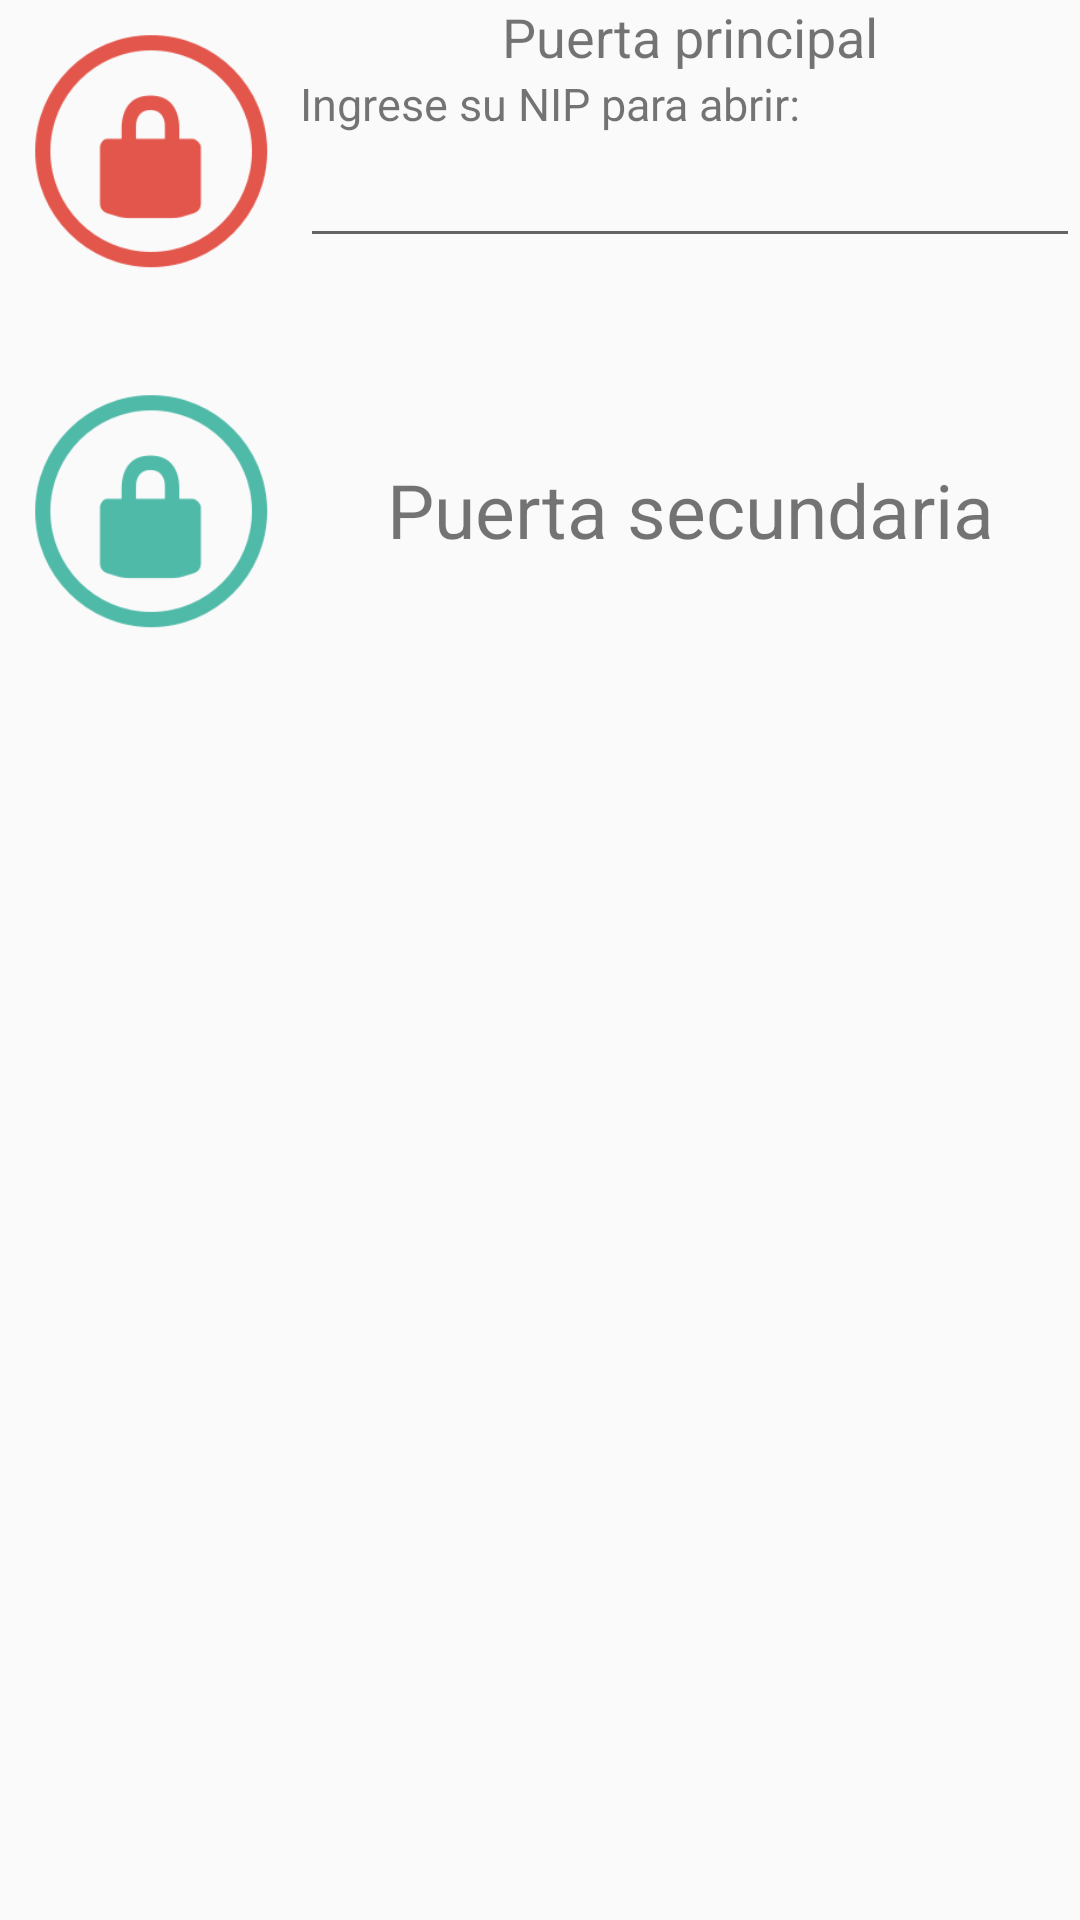

Named icons in this screenshot (1080×1920) and their bounding boxes, region(x1, y1, x2, y2):
hardlocked: region(35, 35, 268, 268)
locked: region(35, 395, 268, 628)
